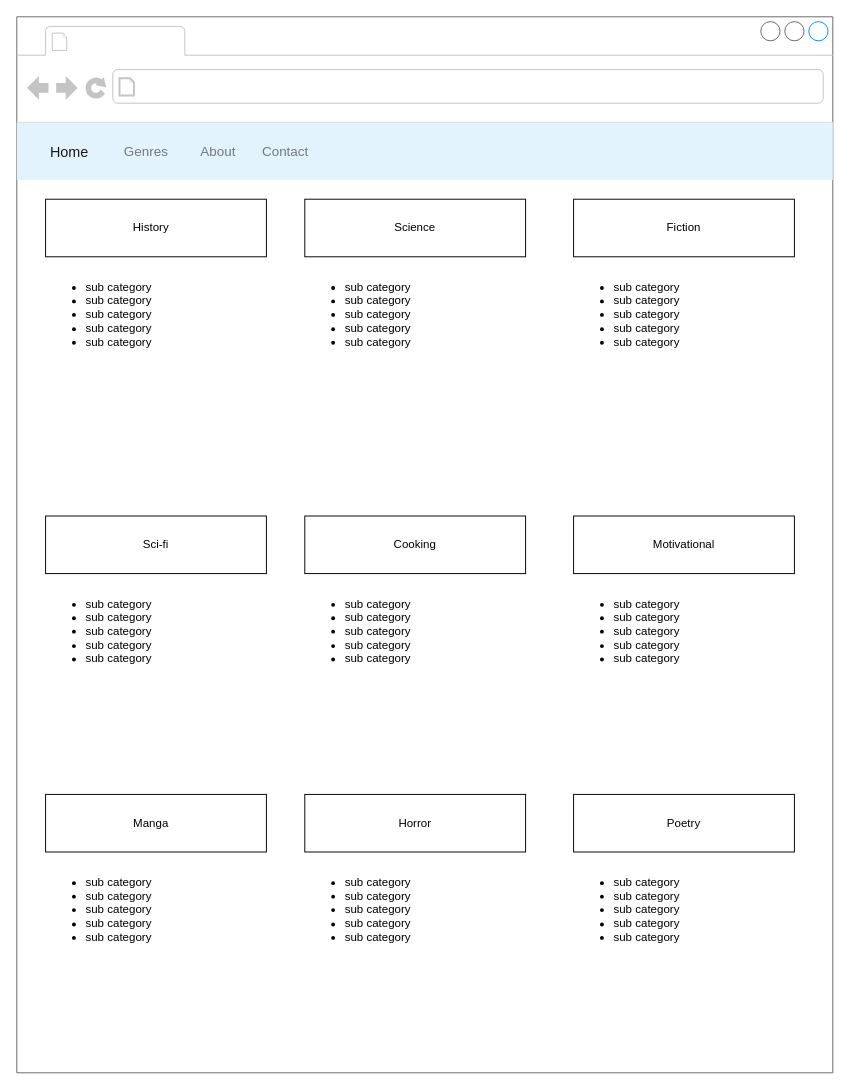
Some shapes in this 850 by 1090 pixel diagram are drawn without their labels. The shapes that lost their labels are listed below. From the top down, each one's centre as x and y in pixels, then its label:
At pixel 126 40: "Page 1".
At pixel 261 86: "https://www.draw.io".
